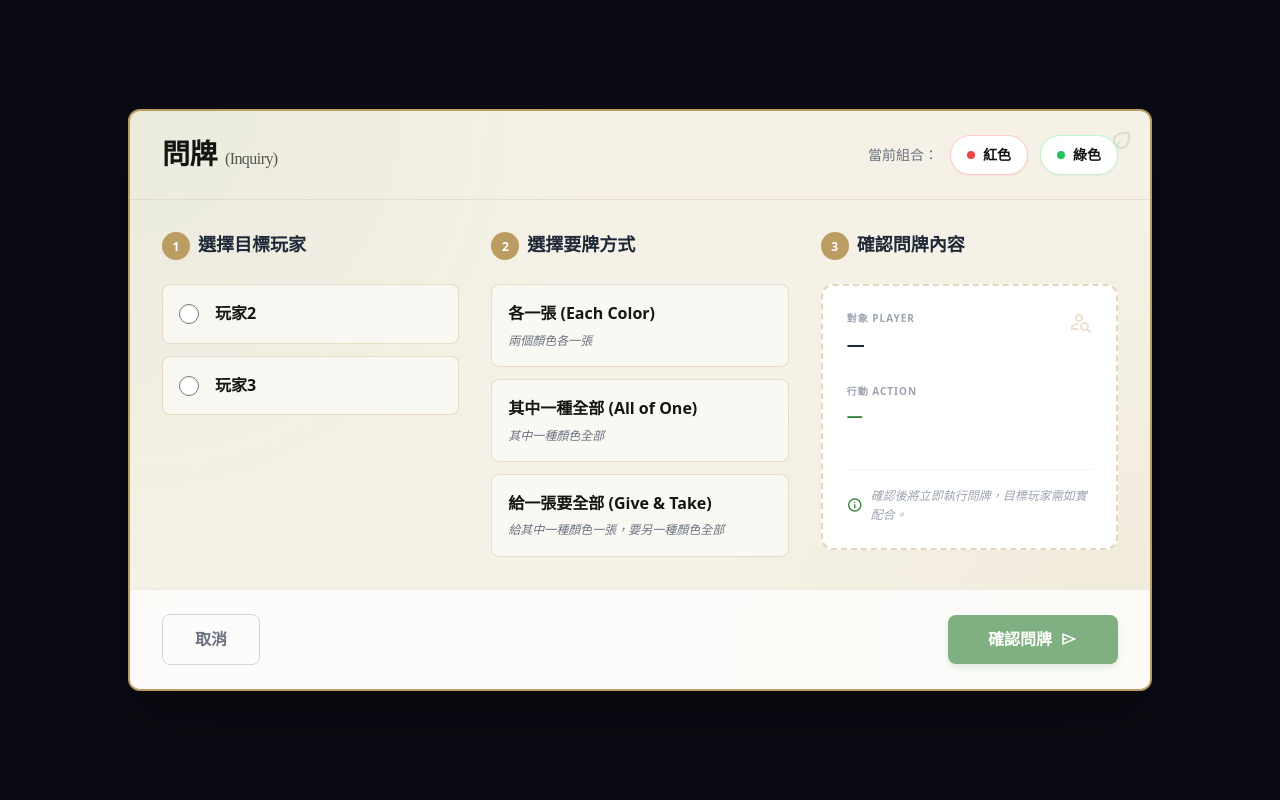
Test case: QuestionFlow Component › shows give color selection for type 3 when player has both colors
This screenshot has width=1280, height=800.
Click the text "玩家2". click: x=236, y=313
box: [215,302,256,324]
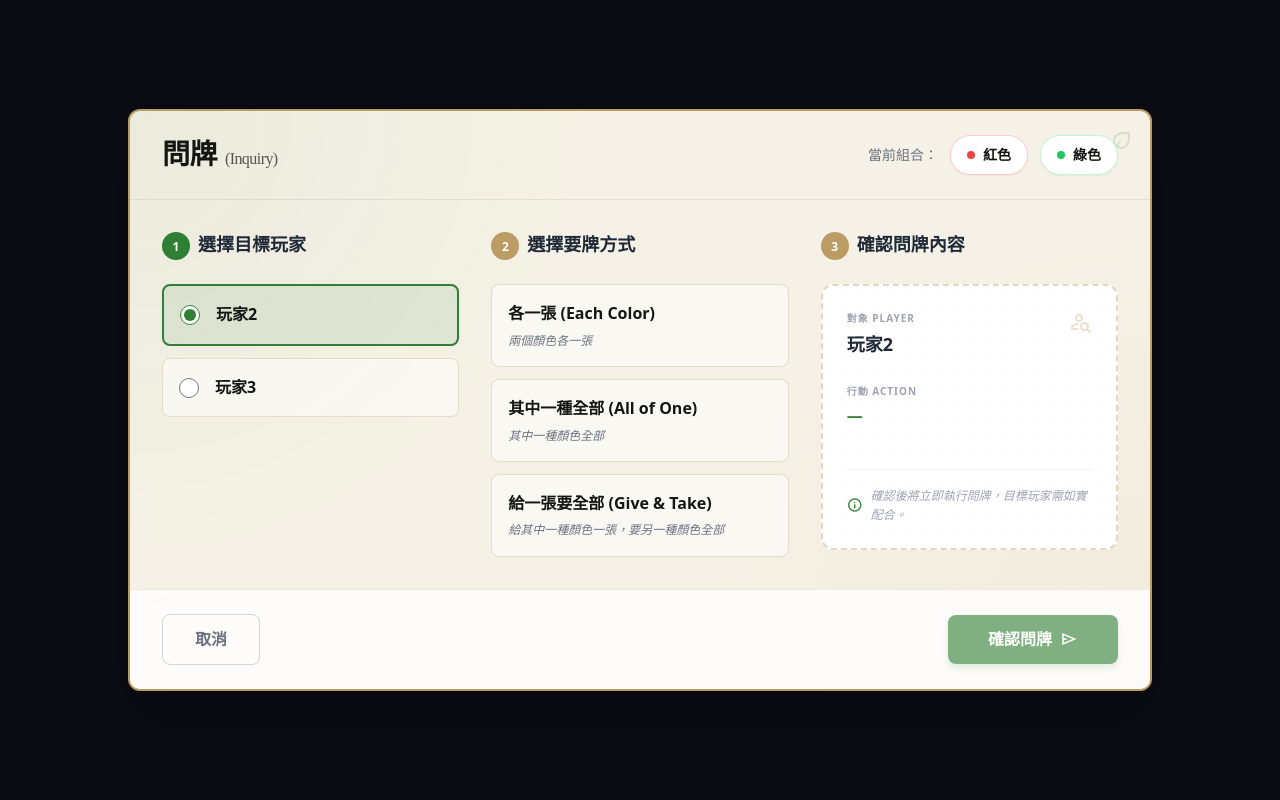
Click the text "給一張要全部 (Give & Take)". click: x=610, y=504
box: [508,491,712,516]
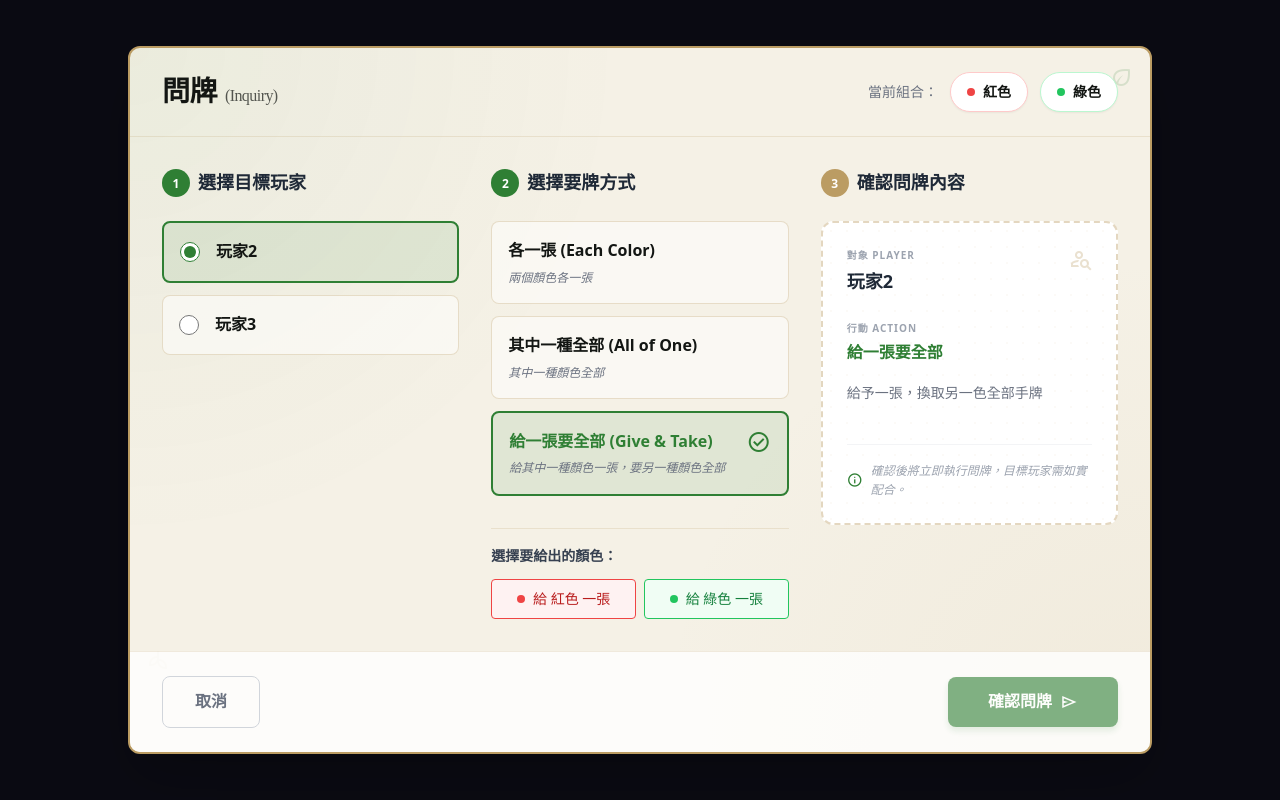
Now the text "選擇要給出的顏色：" is shown, box [491,546,617,565]
